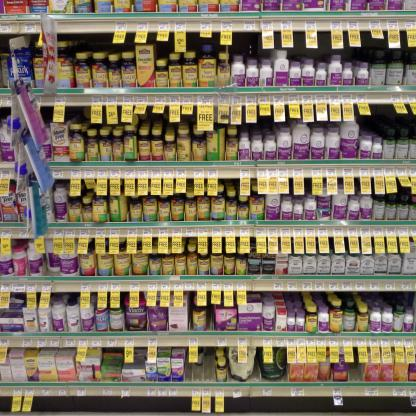Void: (186, 363, 212, 382)
